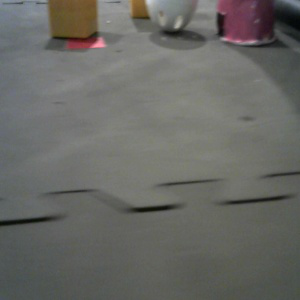right: (216, 1, 279, 47)
